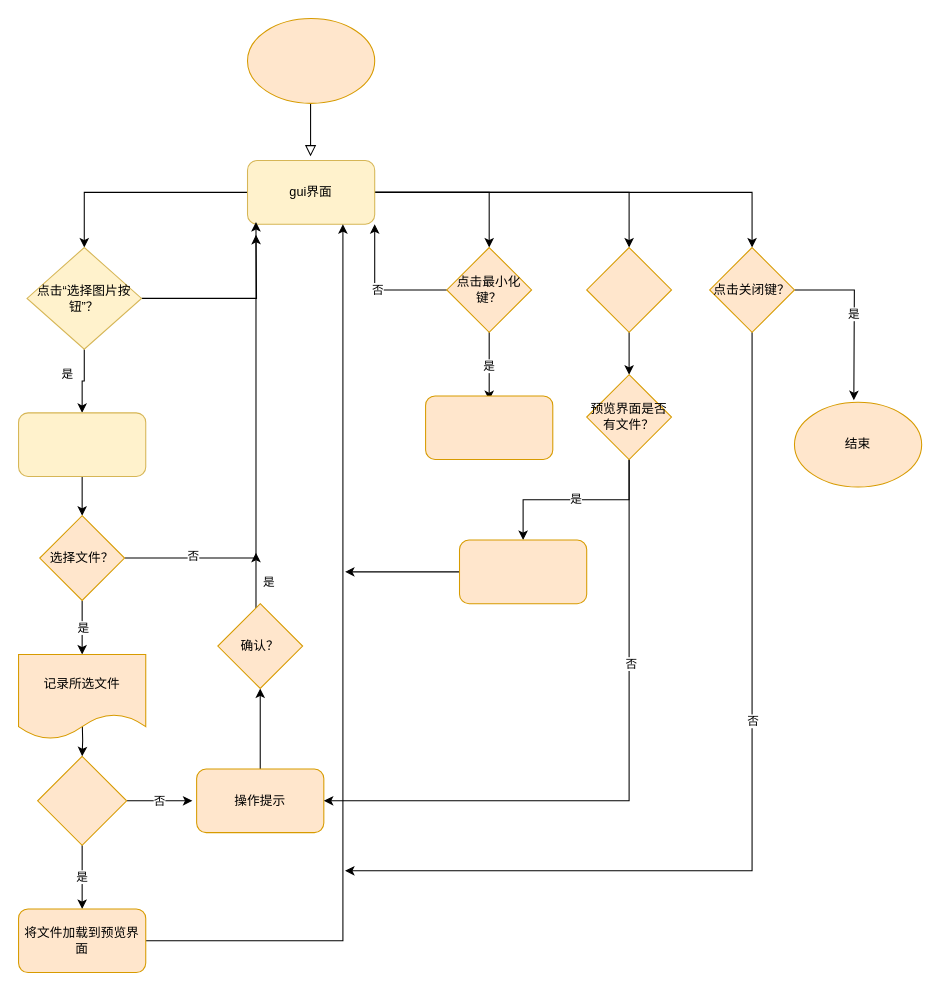
Image size: 940x991. Some labels were removed from this diagram. The box of each missing label's shape, as (x1, y1, x2, y2) in pixels:
创建对话框: (17, 412, 146, 476)
将图片覆盖至桌面: (458, 539, 587, 604)
开始: (246, 17, 375, 103)
最小化窗口: (425, 395, 553, 460)
格式正确？: (37, 755, 127, 845)
点击“应用”？: (586, 246, 672, 332)
